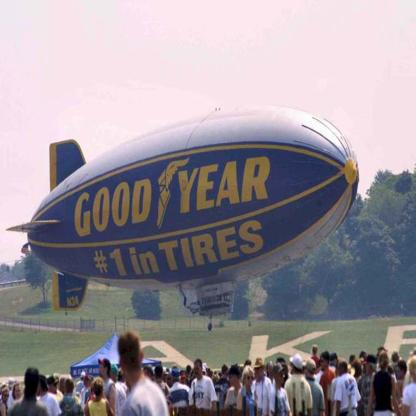Airship: (6, 100, 373, 333)
